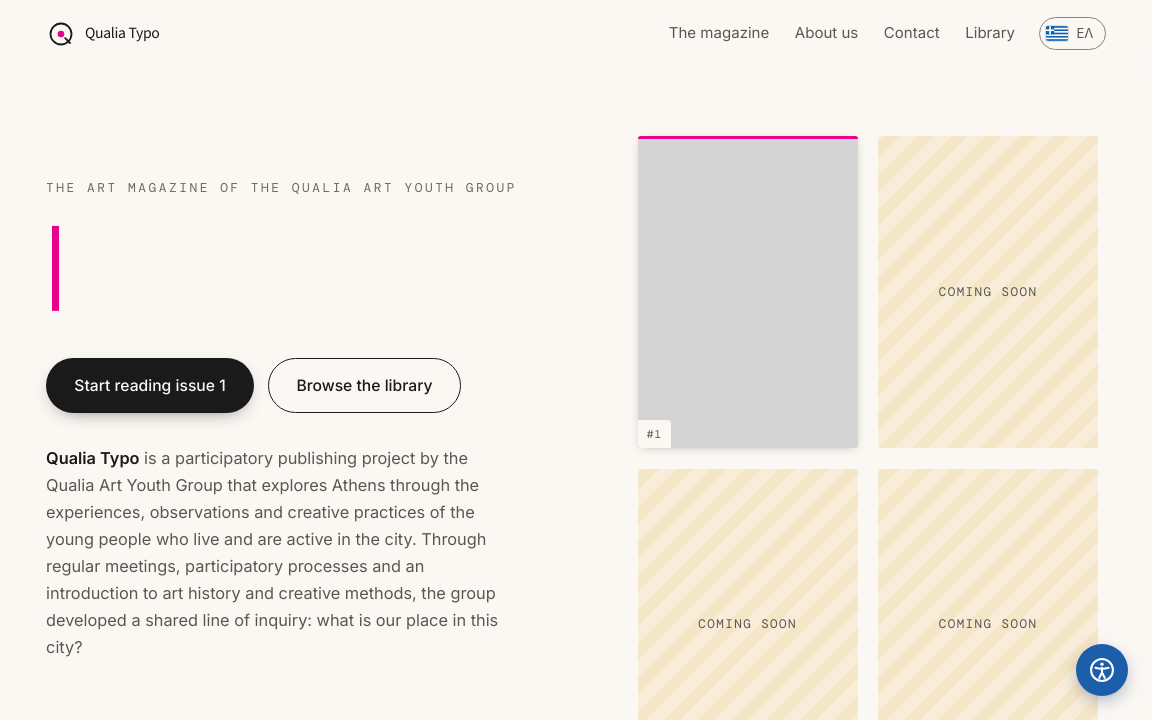
Test: opening and closing › closes on the close button
Click the button named "Accessibility tools": (1102,670) [1076,644,1128,696]
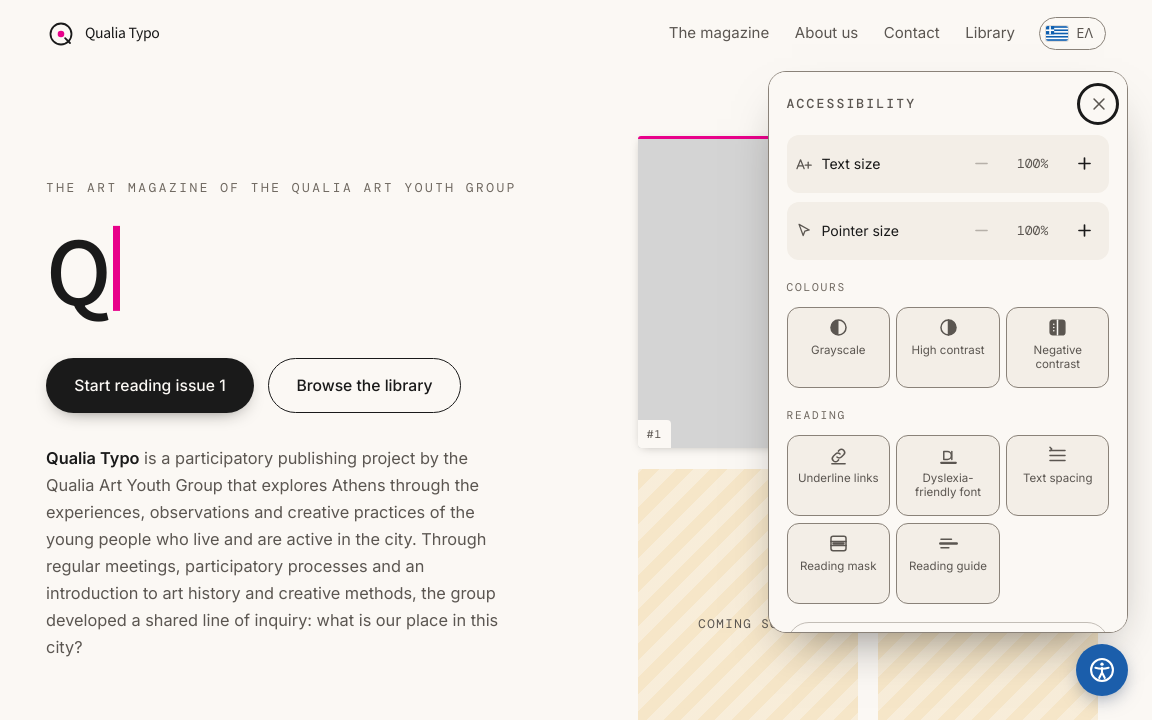
Click the button named "Close": (1098,104) [1082,88,1114,120]
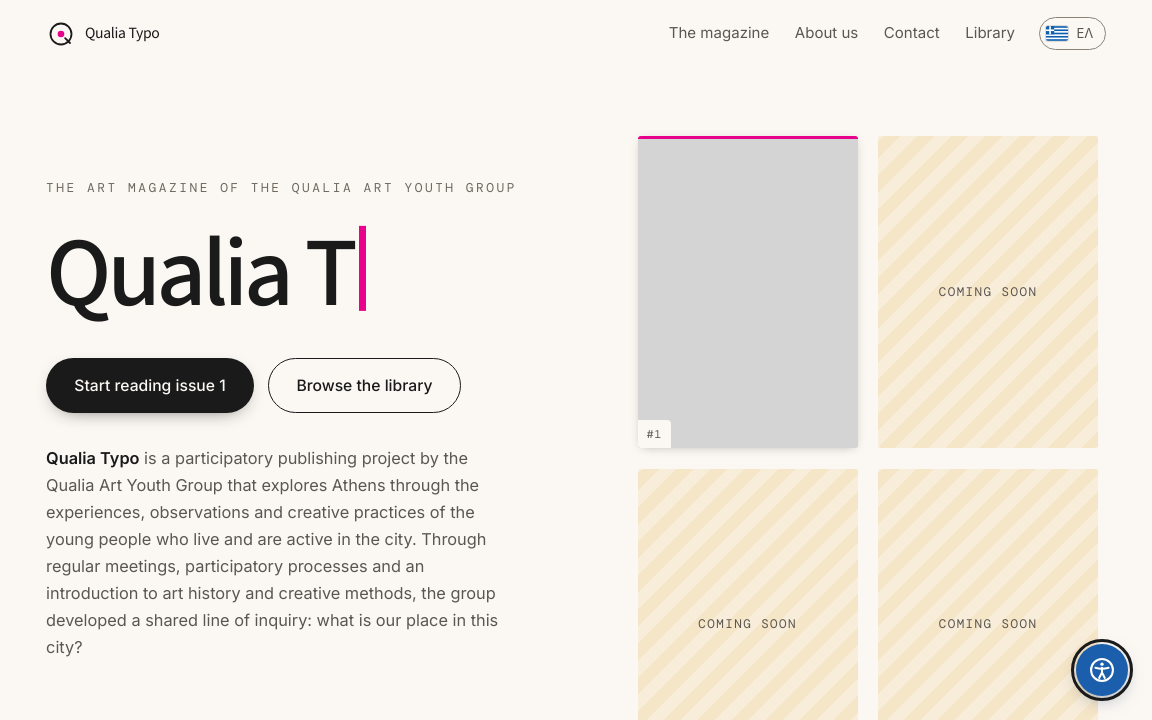
Check: the heading "Accessibility" is gone
